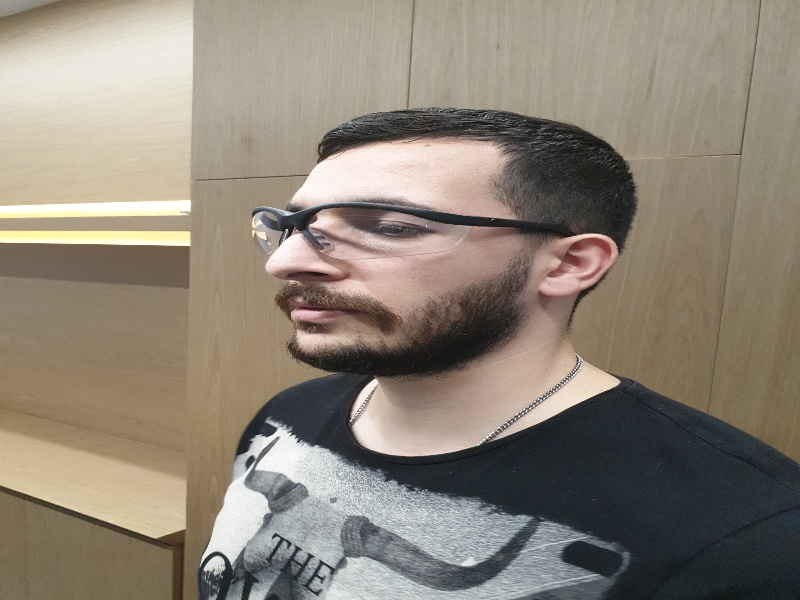Gozluk: (245, 201, 570, 259)
